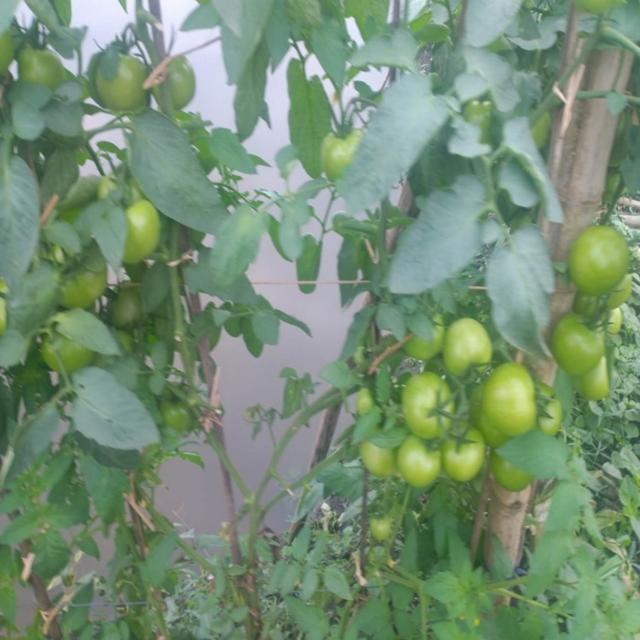tomato: (566, 223, 630, 300), (474, 366, 538, 441), (97, 50, 153, 110), (51, 242, 107, 301), (115, 194, 159, 263), (556, 313, 604, 376), (402, 376, 452, 433), (318, 120, 362, 175), (448, 317, 489, 376), (441, 430, 486, 483), (163, 384, 206, 437), (396, 440, 440, 490), (157, 51, 198, 104), (39, 327, 85, 372), (24, 39, 65, 88), (486, 451, 532, 492), (105, 286, 141, 330), (536, 374, 561, 437), (357, 442, 393, 481), (581, 359, 612, 402), (532, 108, 556, 151), (595, 279, 634, 305), (463, 96, 492, 130), (367, 509, 394, 540), (359, 384, 379, 413)
